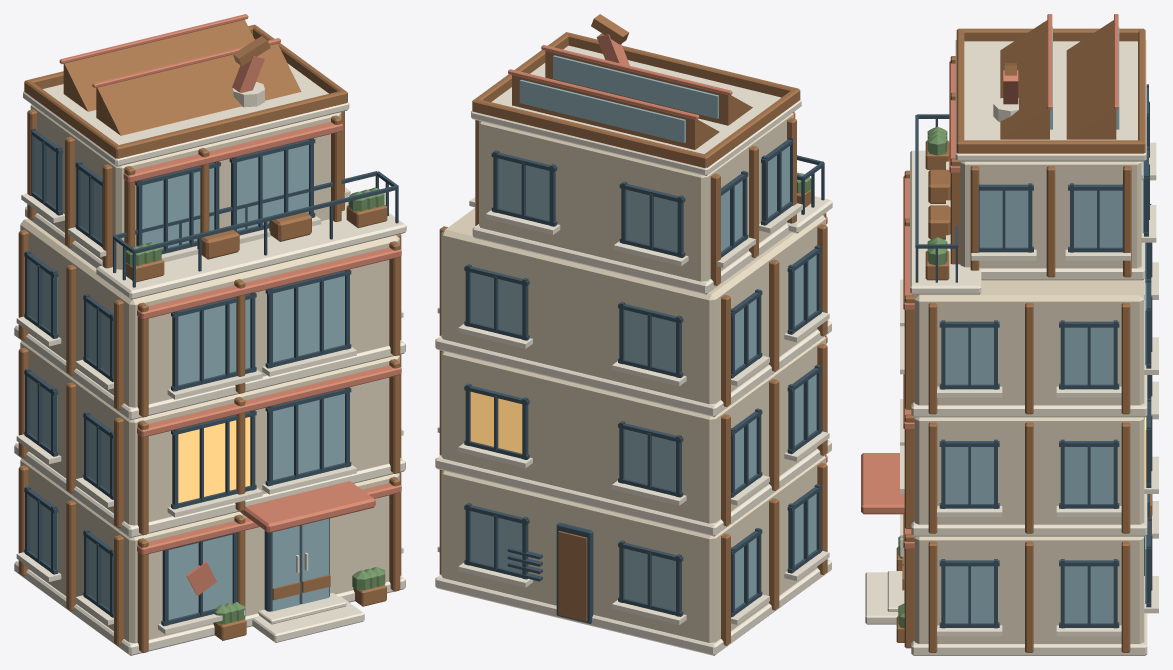
File: creative-l04.glb
The picture shows the model from 3 angles, left to right: view 1: azimuth 30°, elevation 25°; view 2: azimuth 150°, elevation 25°; view 3: azimuth 270°, elevation 25°; orthographic projection.
Visible parts, largest first — view 1: creative_L04; view 2: creative_L04; view 3: creative_L04.
Boxes of the visible parts, <box> form: creative_L04: <box>14,14,406,655</box>; creative_L04: <box>435,14,832,655</box>; creative_L04: <box>861,14,1158,655</box>.
Size of the model in its own units: 5.57 by 9.69 by 4.8.
